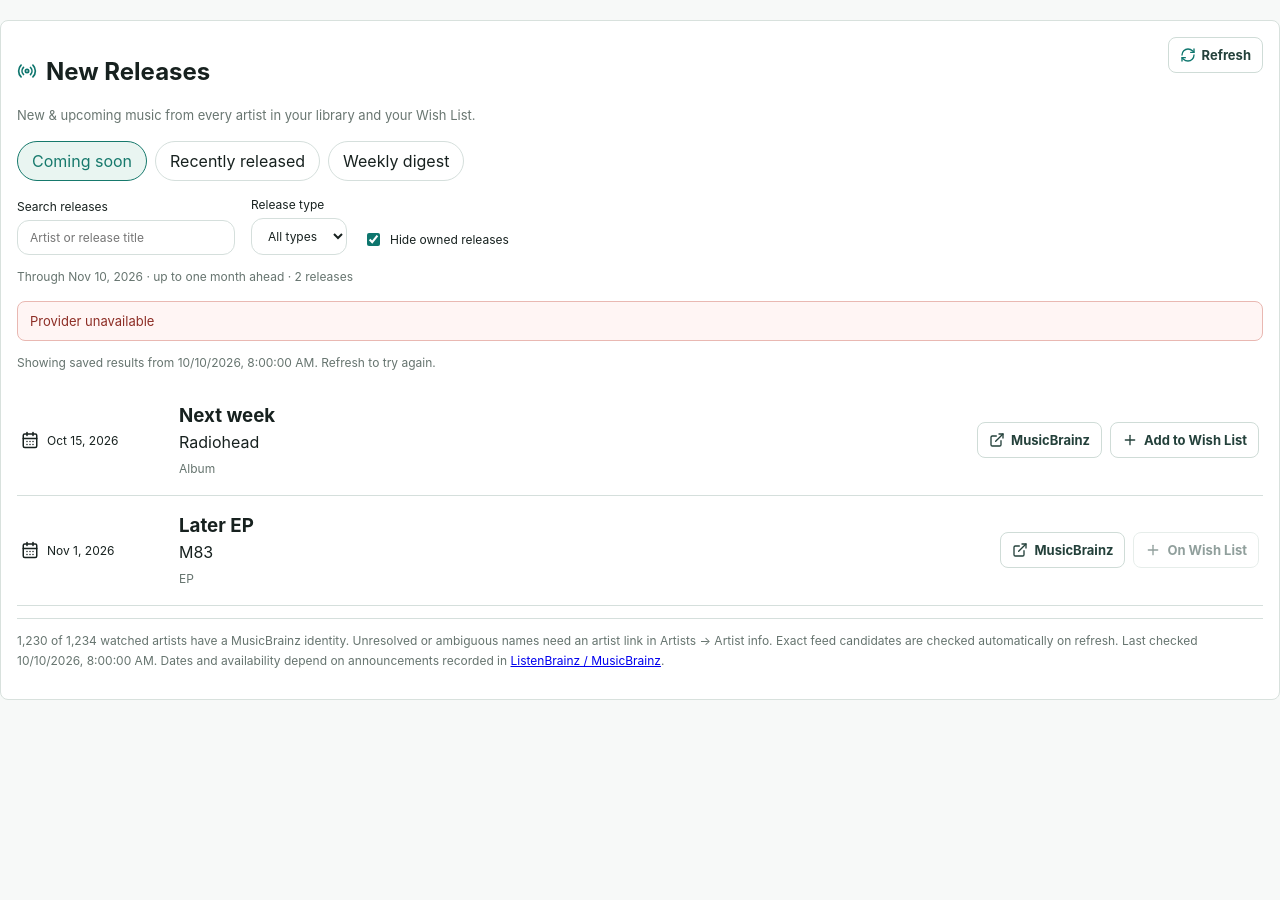
Test: new-release radar › keeps cached releases visible when refresh fails and reports stale provider coverage
Expected: the heading "Next week" is shown, [179,404,275,427]
Expected: the message reads "Provider unavailable", [30,313,154,329]
Click the button with aria-label "Refresh new releases" at coordinates (1215, 55), box [1168,37,1263,73]
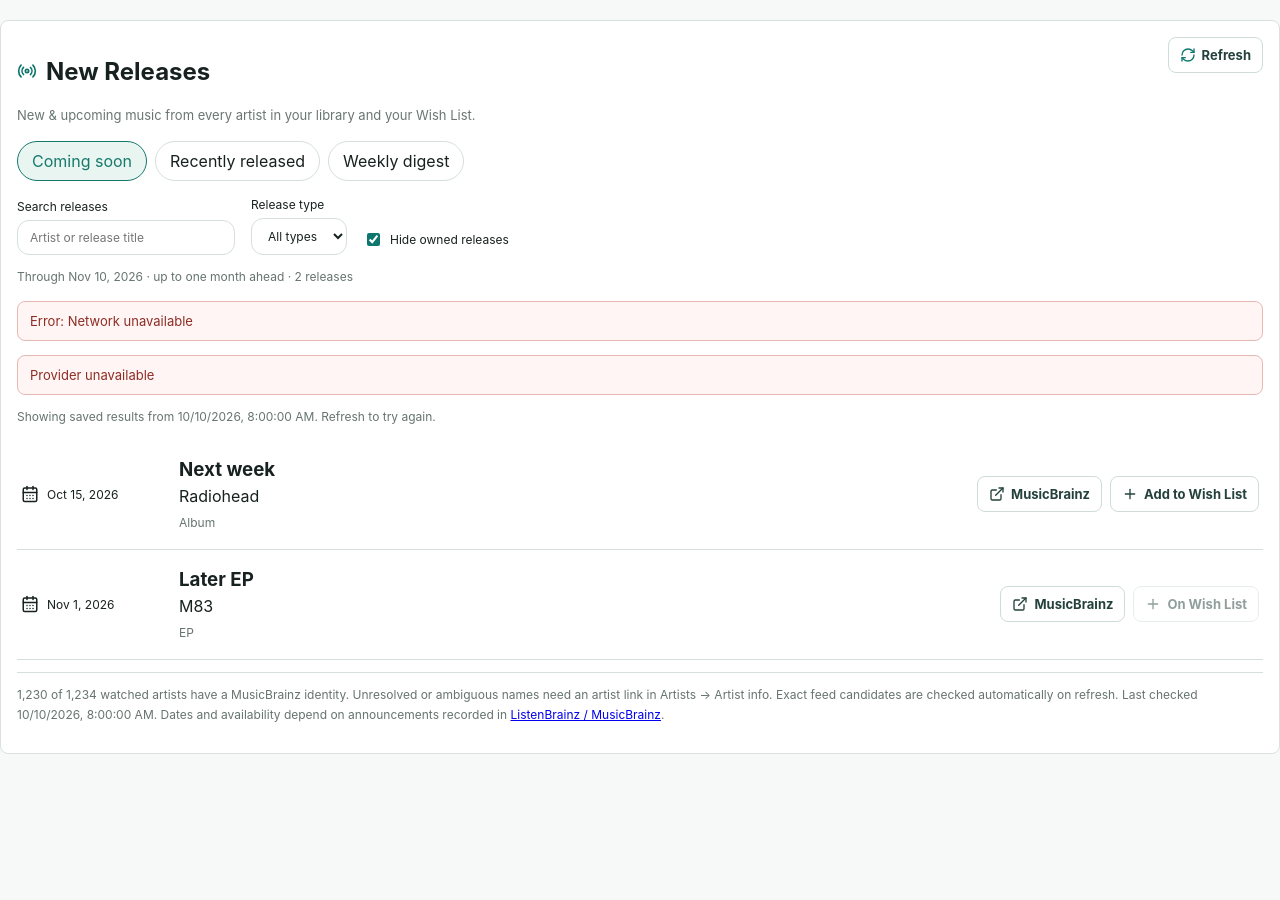
Expected: the heading "Next week" is shown, [179,458,275,481]
Now the text "Error: Network unavailable" is shown, box [17,301,1263,341]
